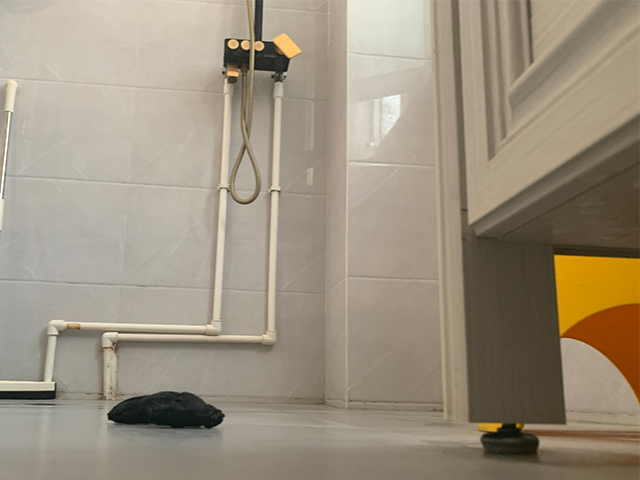cabinet: (429, 1, 640, 458)
feces: (106, 390, 226, 431)
